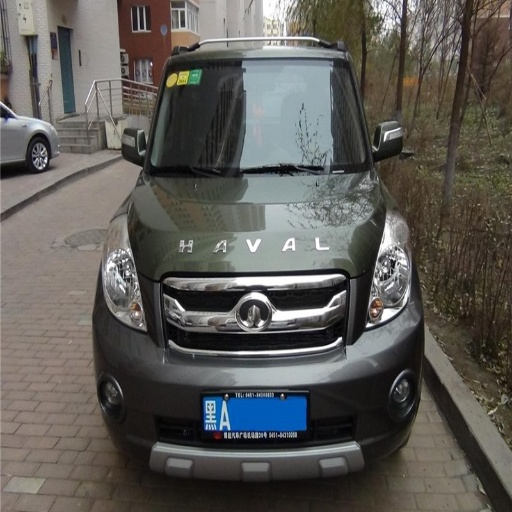front_bumper: (95, 275, 420, 476)
front_right_light: (101, 217, 150, 332)
hood: (133, 169, 383, 275)
